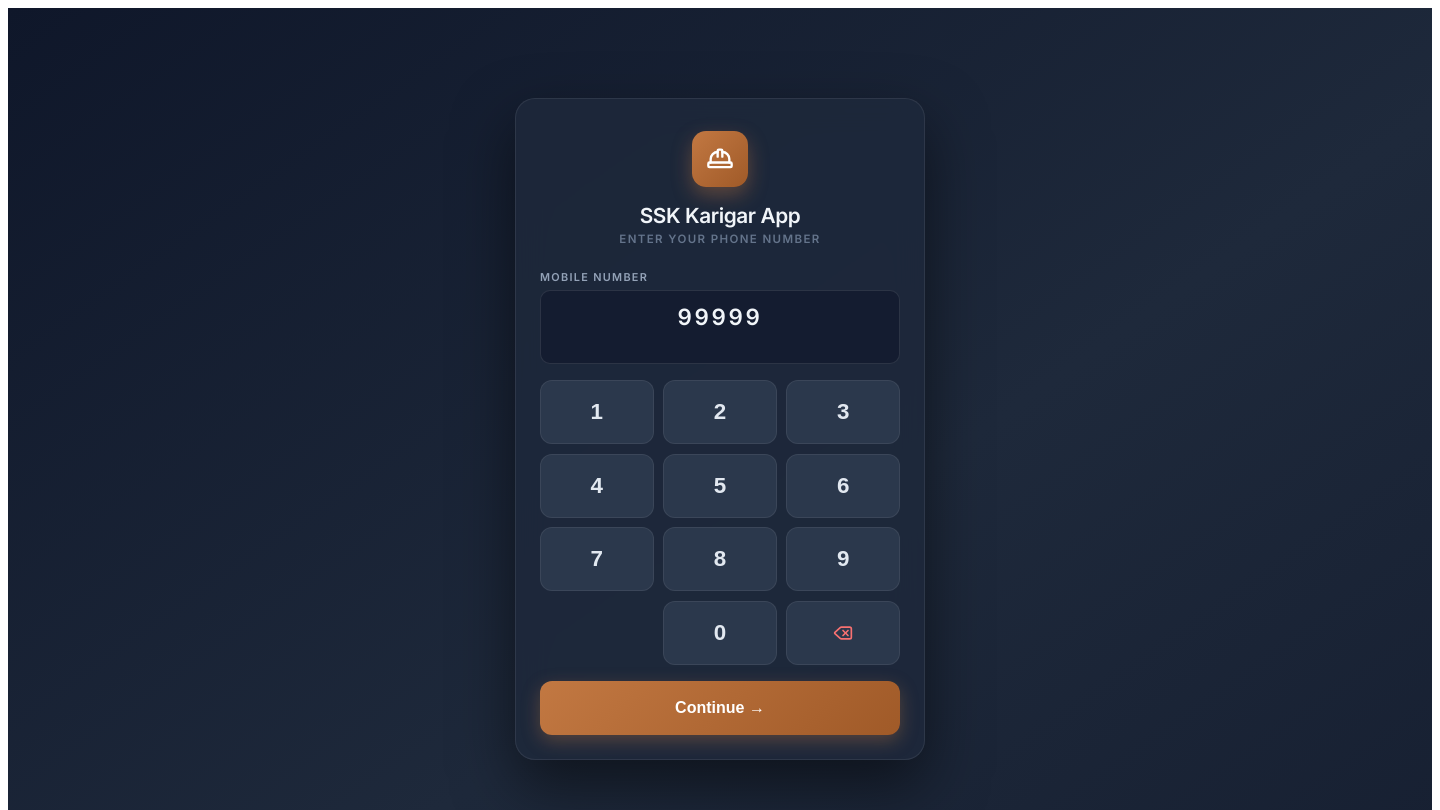
Test case: KarigarLogin Touch and Keypad Responsiveness › full flow: entering 10 digits advances to PIN step
Earlier steps of the test are not shown.
Press 9
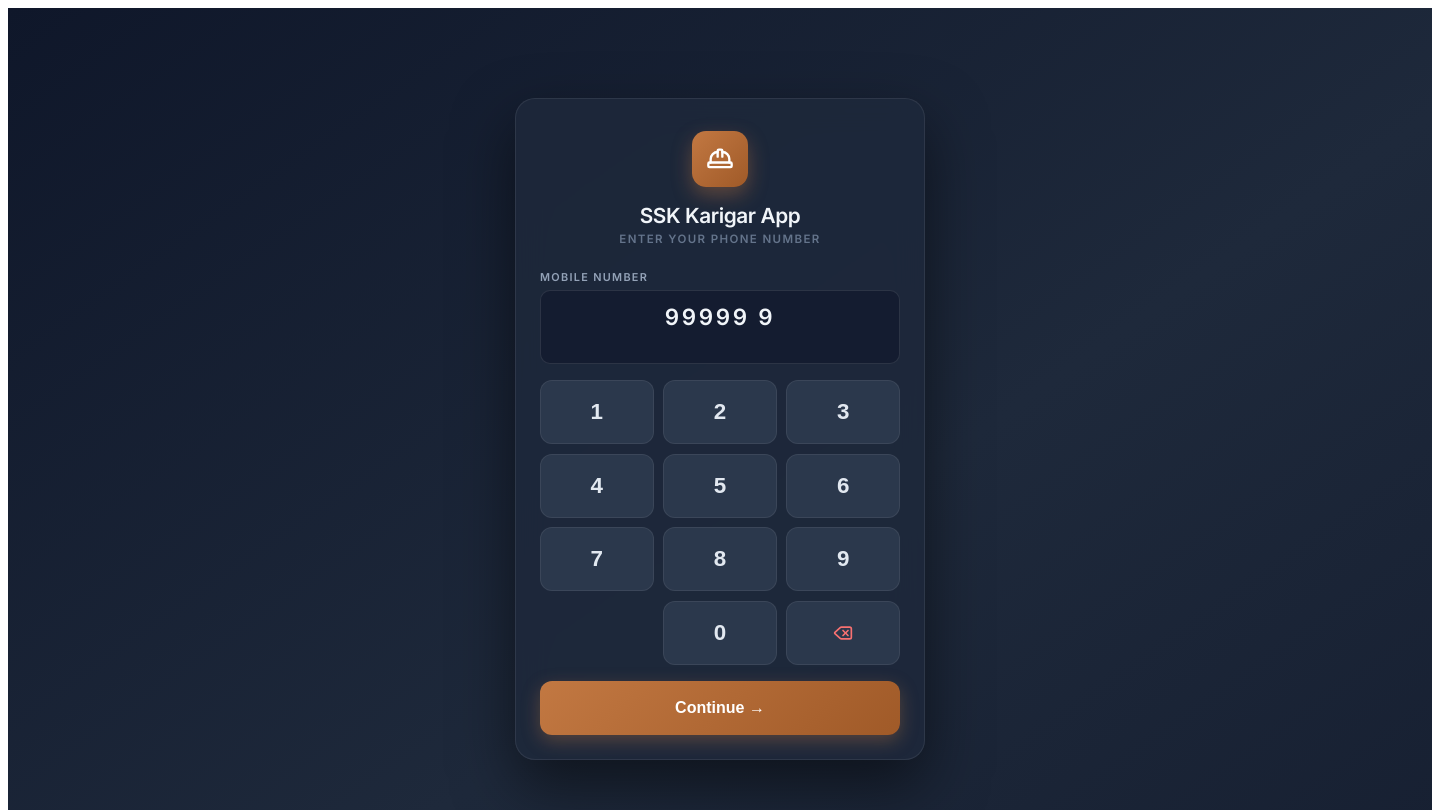
Press 9
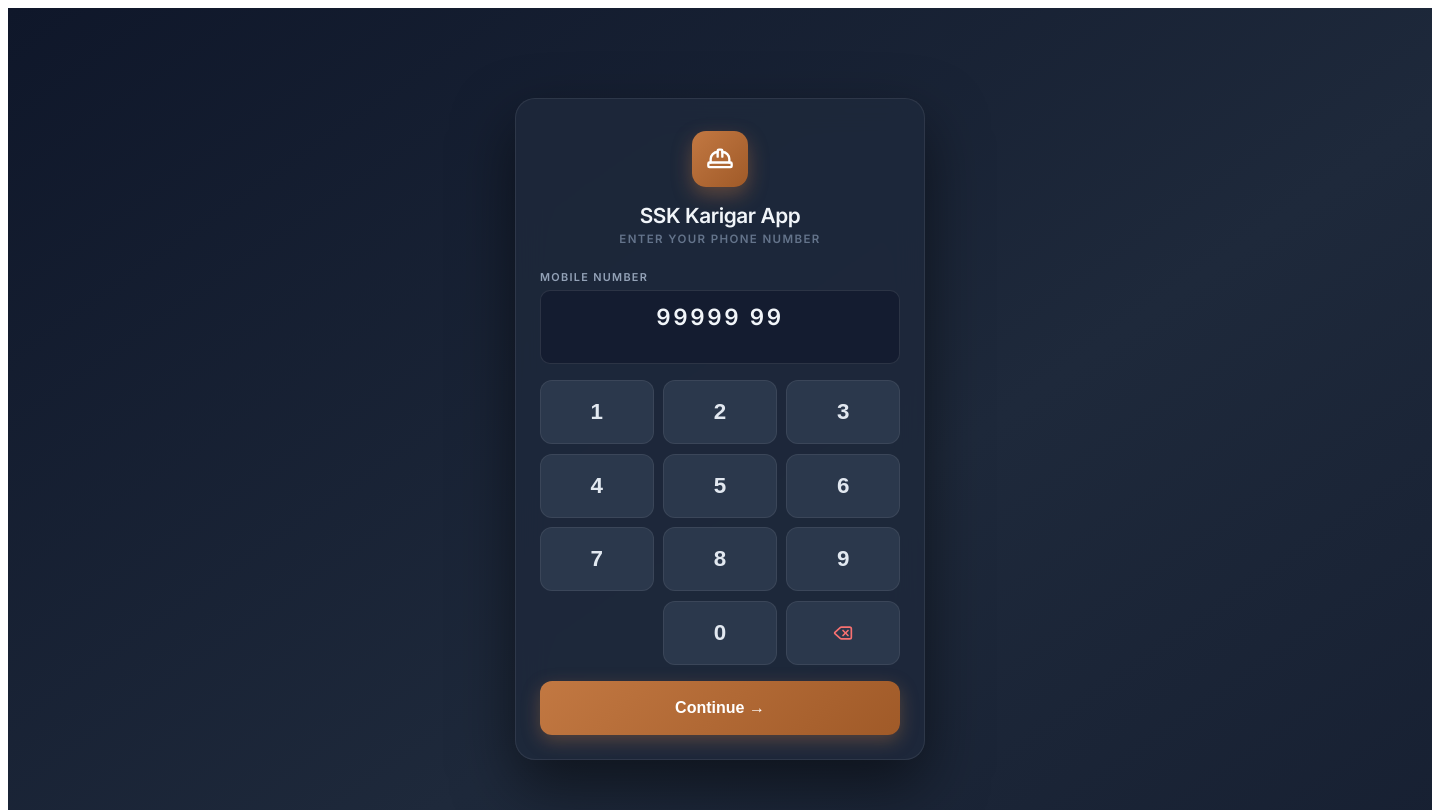
Press 9
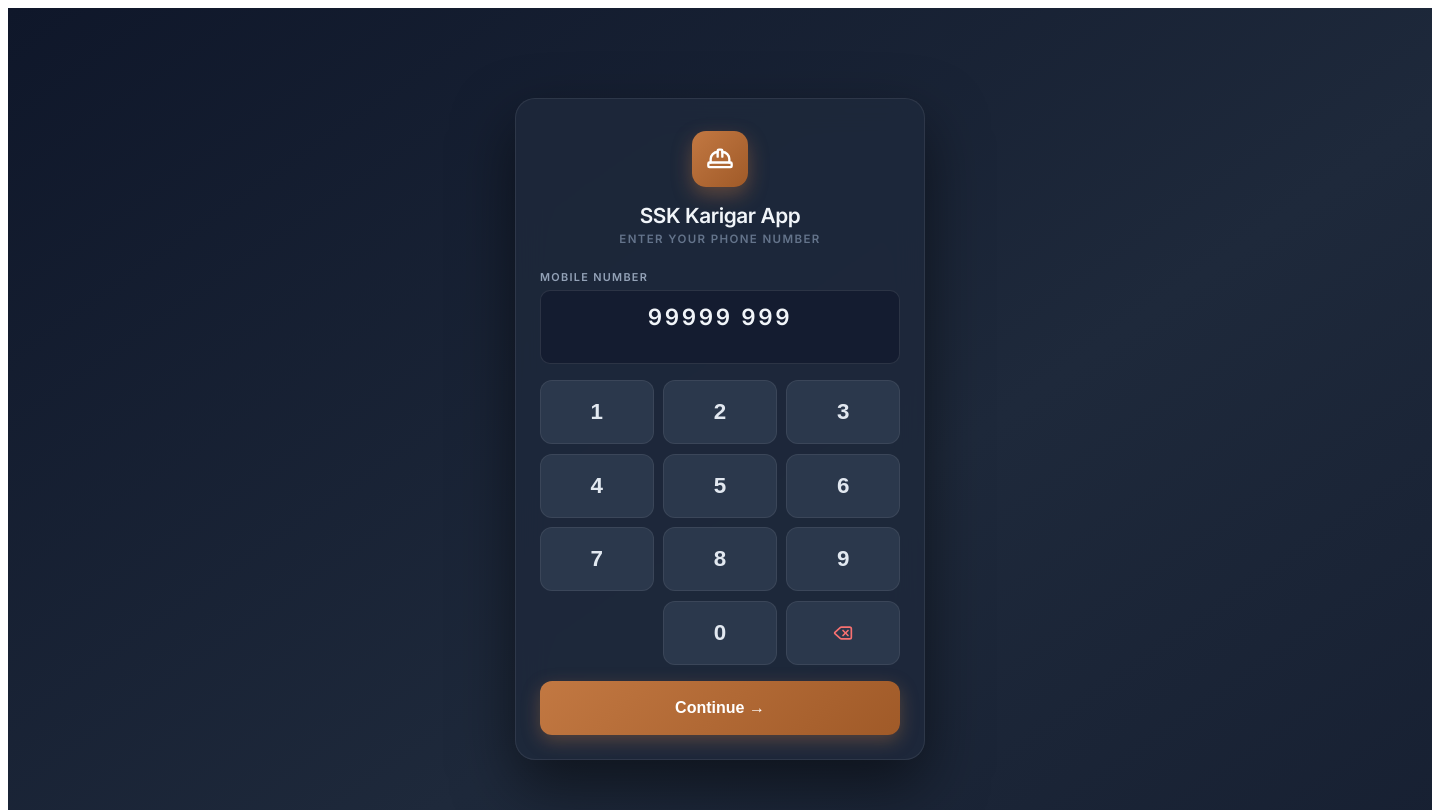
Press 9
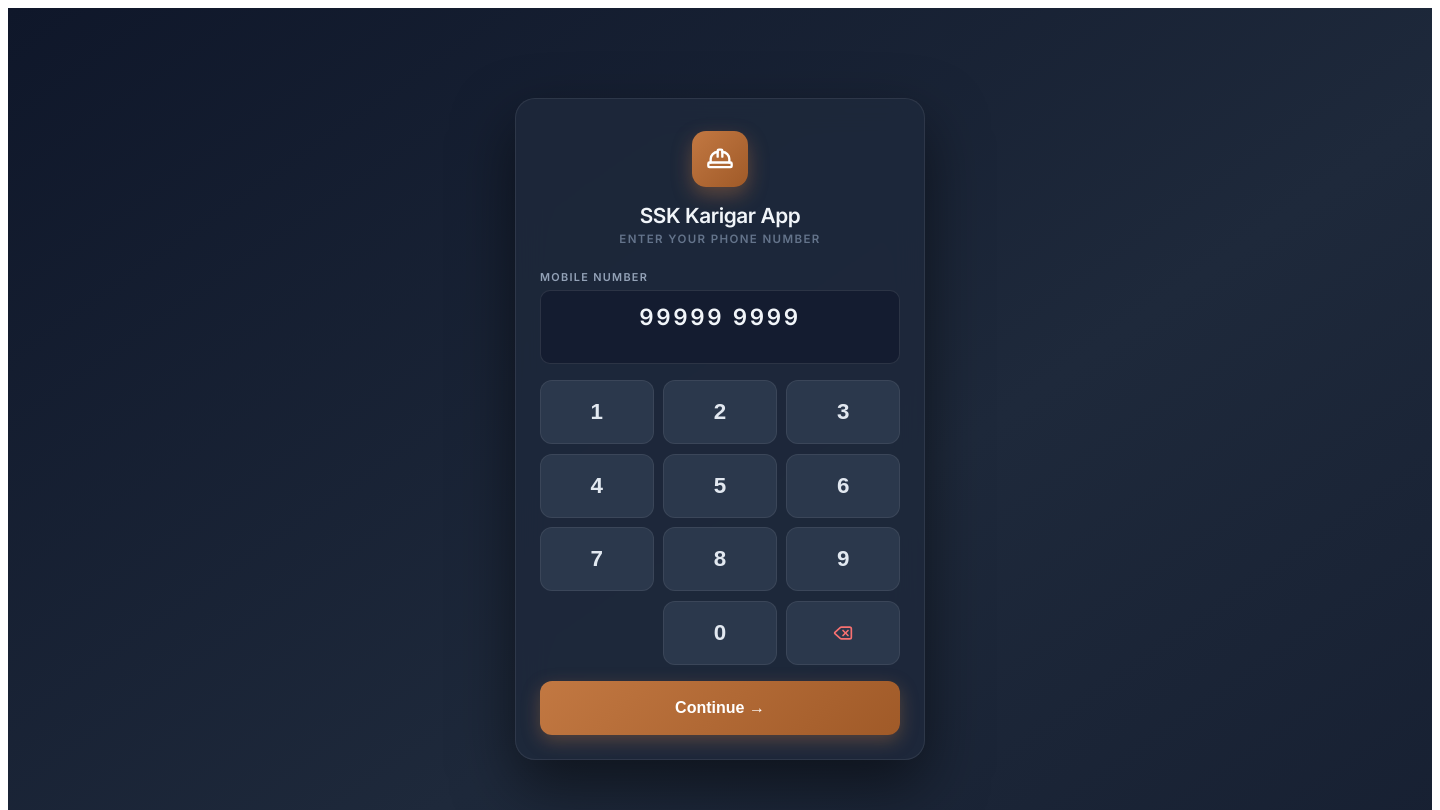
Press 9
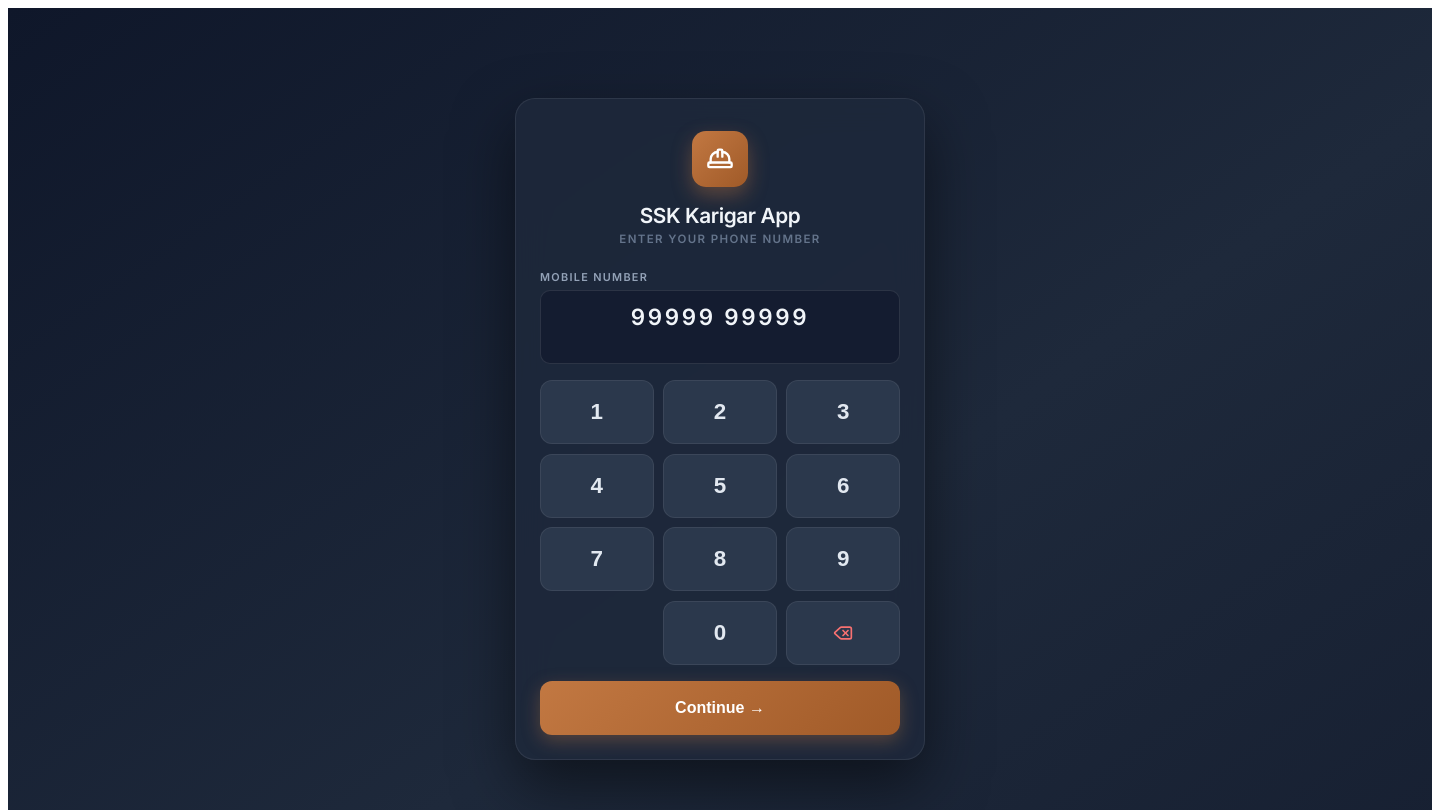
Click the button "Continue →" at (720, 708), box left=540, top=681, right=900, bottom=735
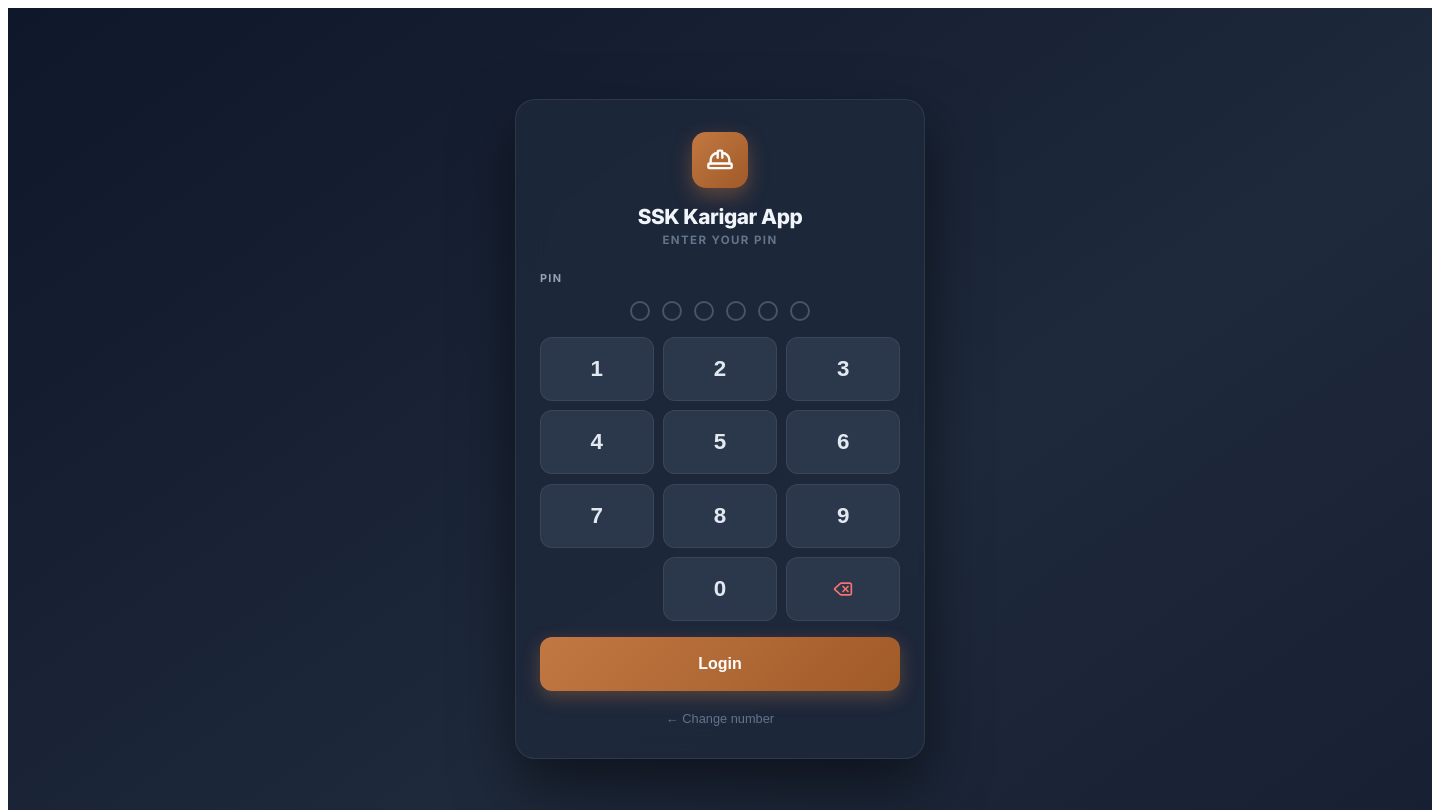
Result: the text "Enter your PIN" is shown at left=662, top=233, right=778, bottom=247
Result: the text "PIN" is shown at left=540, top=271, right=562, bottom=285
